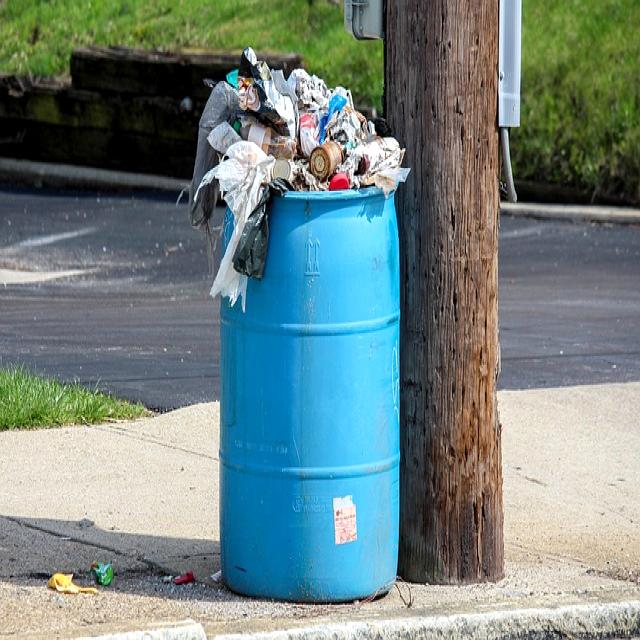Garbage: (192, 54, 402, 205)
Trash: (48, 566, 96, 598), (91, 558, 114, 588), (170, 566, 198, 586)
